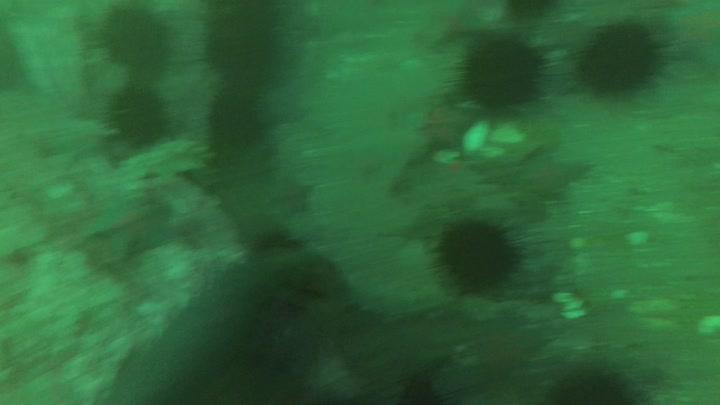urchin: (576, 16, 666, 105), (455, 33, 546, 113), (433, 221, 520, 297), (534, 353, 649, 405), (205, 96, 275, 178), (206, 10, 282, 79), (106, 81, 174, 138), (109, 7, 173, 60)
